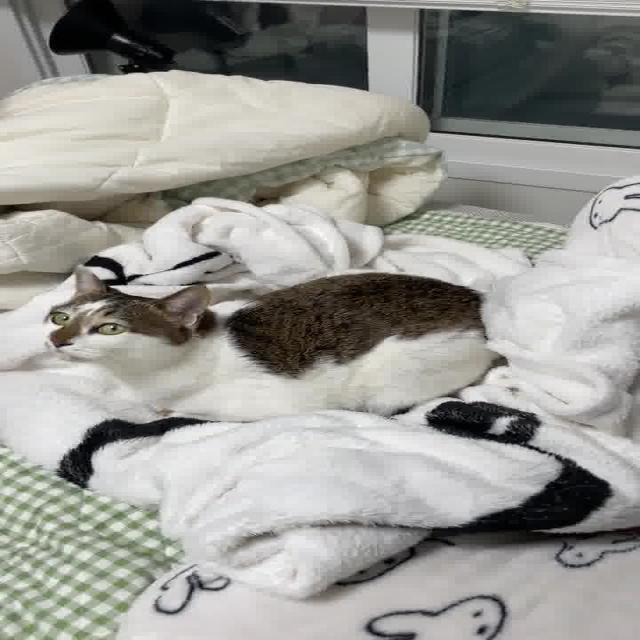cat: (25, 258, 532, 430)
